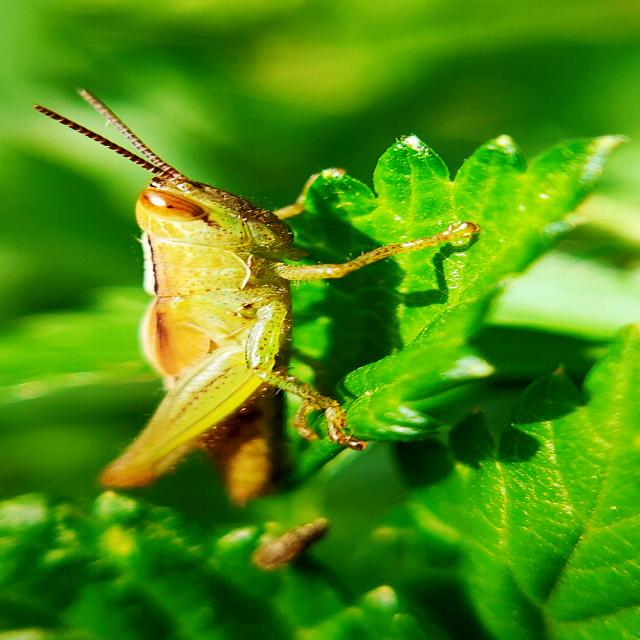ZhaMeng: (58, 97, 389, 494)
